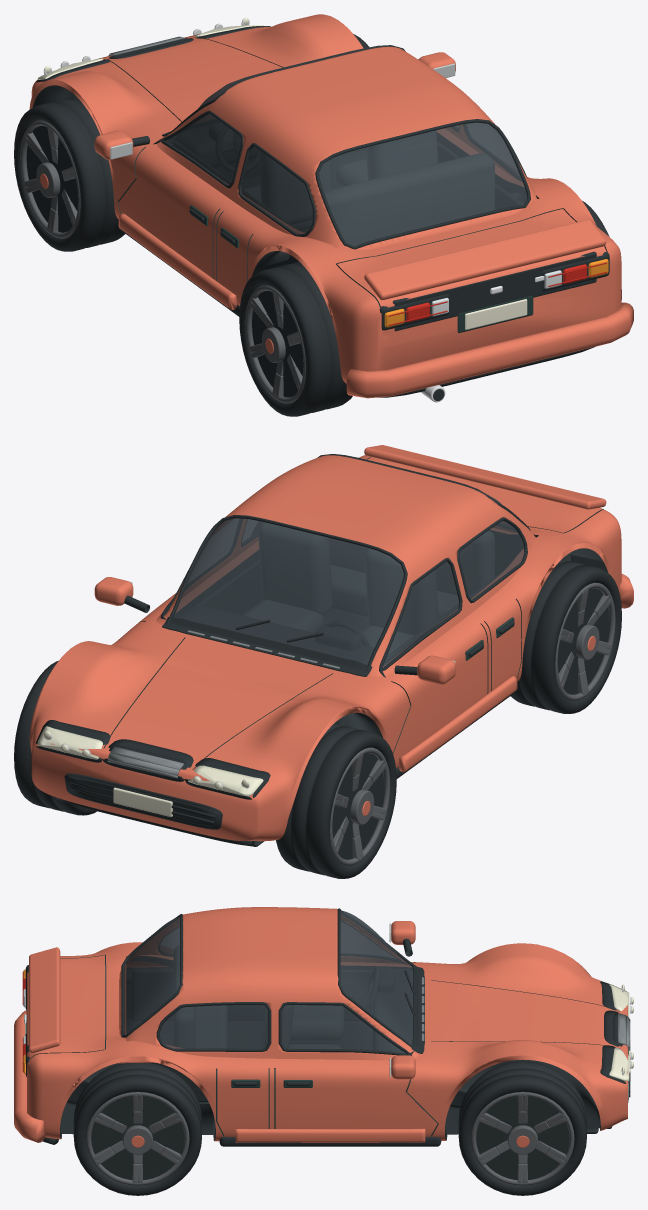
The model's file is kage.fbx.
The picture shows the model from 3 angles, top to bottom: view 1: azimuth 30°, elevation 25°; view 2: azimuth 150°, elevation 25°; view 3: azimuth 270°, elevation 25°; orthographic projection. The views are drawn at different scales.
Parts seen in each view (by area): view 1: Body, Wheel_RL_Mesh, Wheel_FL_Mesh; view 2: Body, Wheel_FL_Mesh, Wheel_RL_Mesh, Wheel_FR_Mesh; view 3: Body, Wheel_FR_Mesh, Wheel_RR_Mesh, Wheel_RL_Mesh.
Boxes of the visible parts, x1=… form: Body: x1=29, y1=14, x2=633, y2=402; Wheel_RL_Mesh: x1=239, y1=262, x2=352, y2=416; Wheel_FL_Mesh: x1=14, y1=96, x2=125, y2=251; Body: x1=29, y1=445, x2=633, y2=846; Wheel_FL_Mesh: x1=276, y1=723, x2=396, y2=878; Wheel_RL_Mesh: x1=510, y1=559, x2=621, y2=713; Wheel_FR_Mesh: x1=14, y1=660, x2=96, y2=815; Body: x1=14, y1=907, x2=633, y2=1146; Wheel_FR_Mesh: x1=458, y1=1061, x2=586, y2=1195; Wheel_RR_Mesh: x1=73, y1=1063, x2=201, y2=1195; Wheel_RL_Mesh: x1=126, y1=967, x2=173, y2=1018.
Size of the model in its own units: 238 by 148 by 425.
